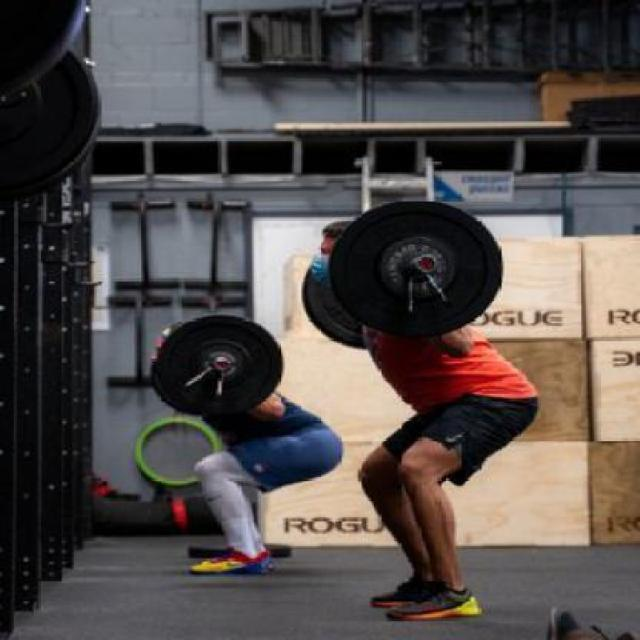barbell: (329, 198, 507, 345), (153, 313, 286, 420)
